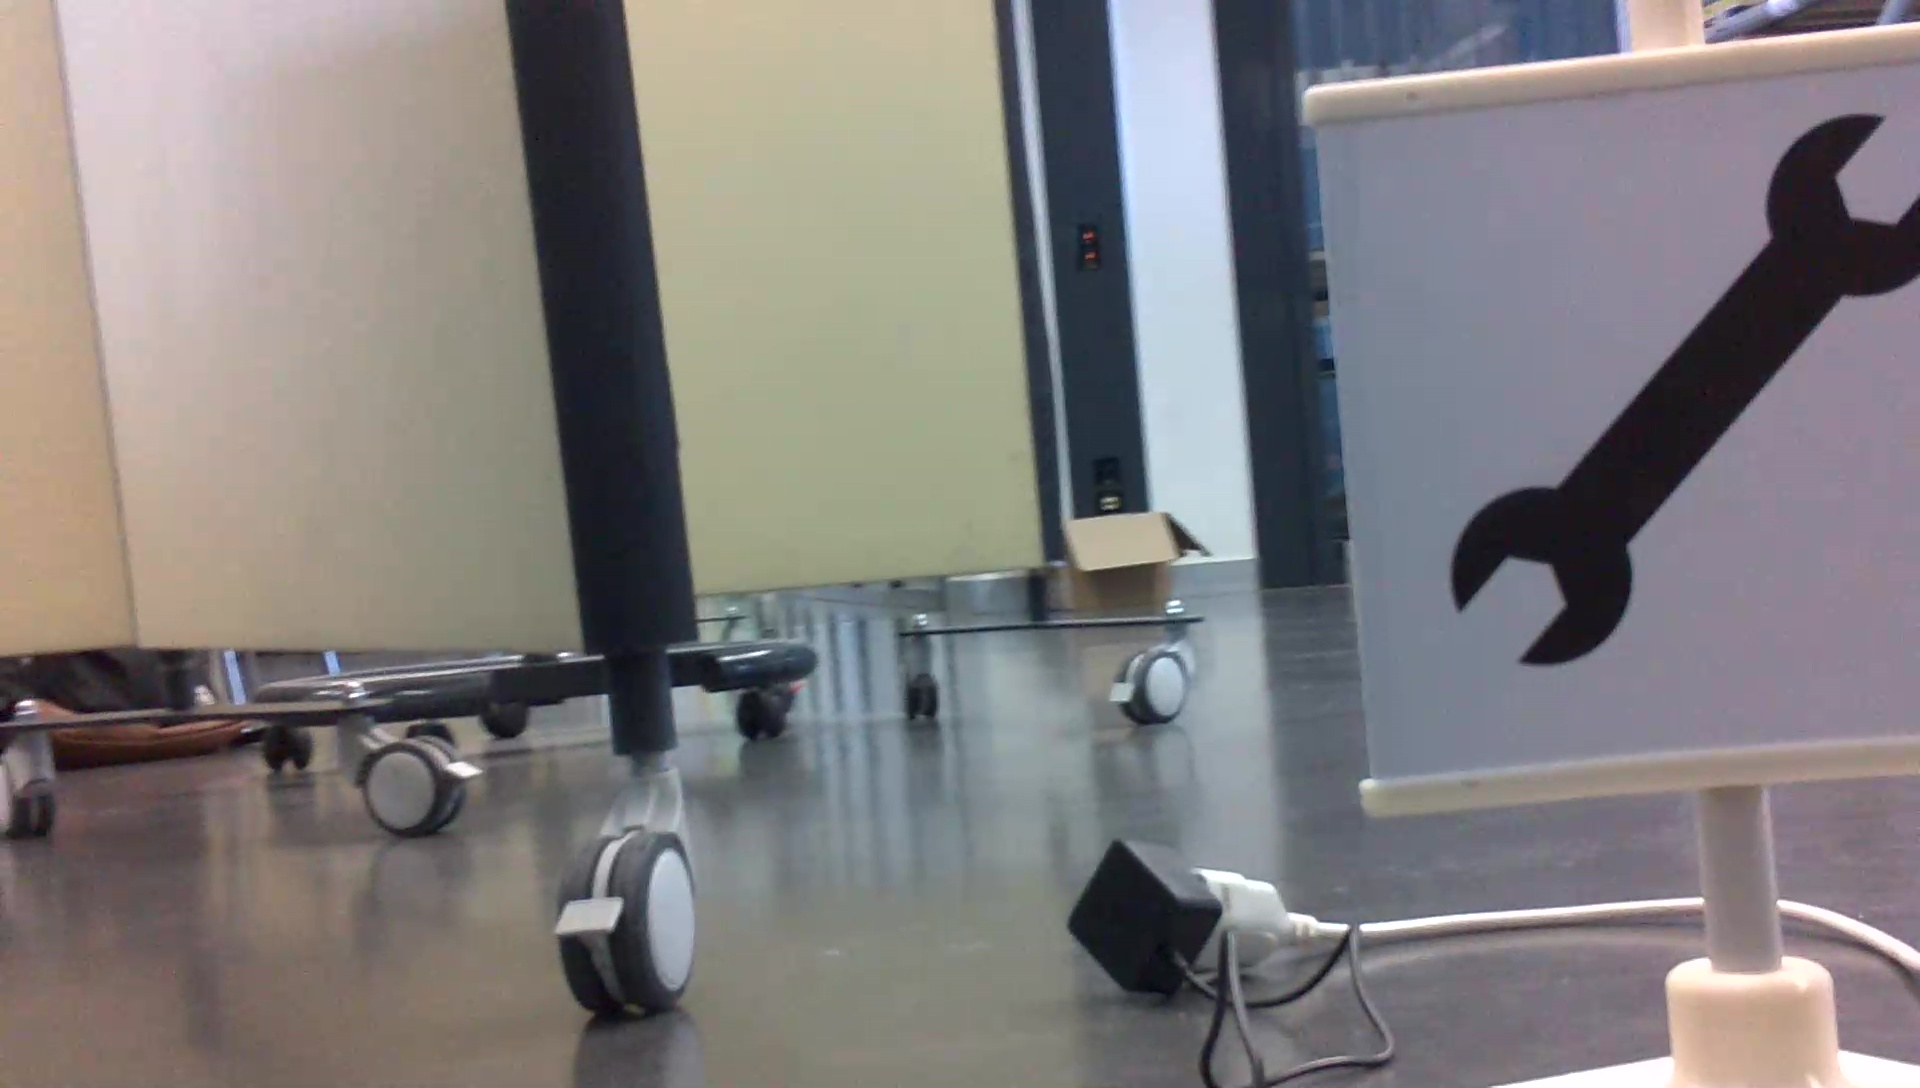wrench: (1440, 94, 1920, 684)
